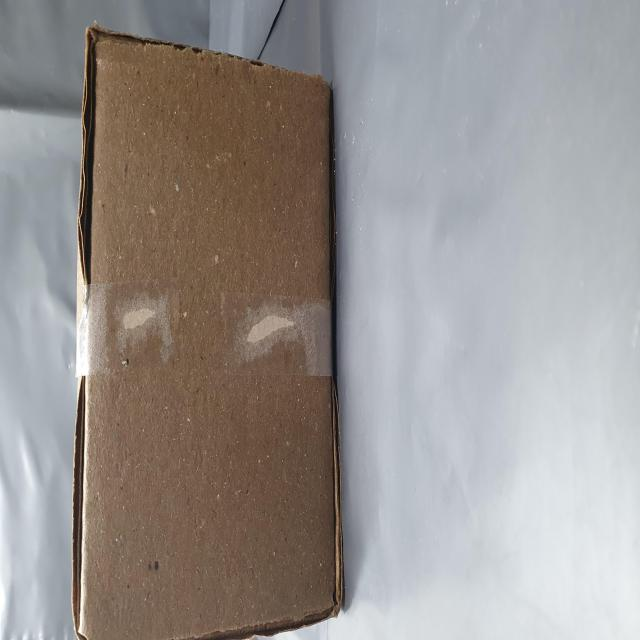wet: (2, 130, 348, 598)
